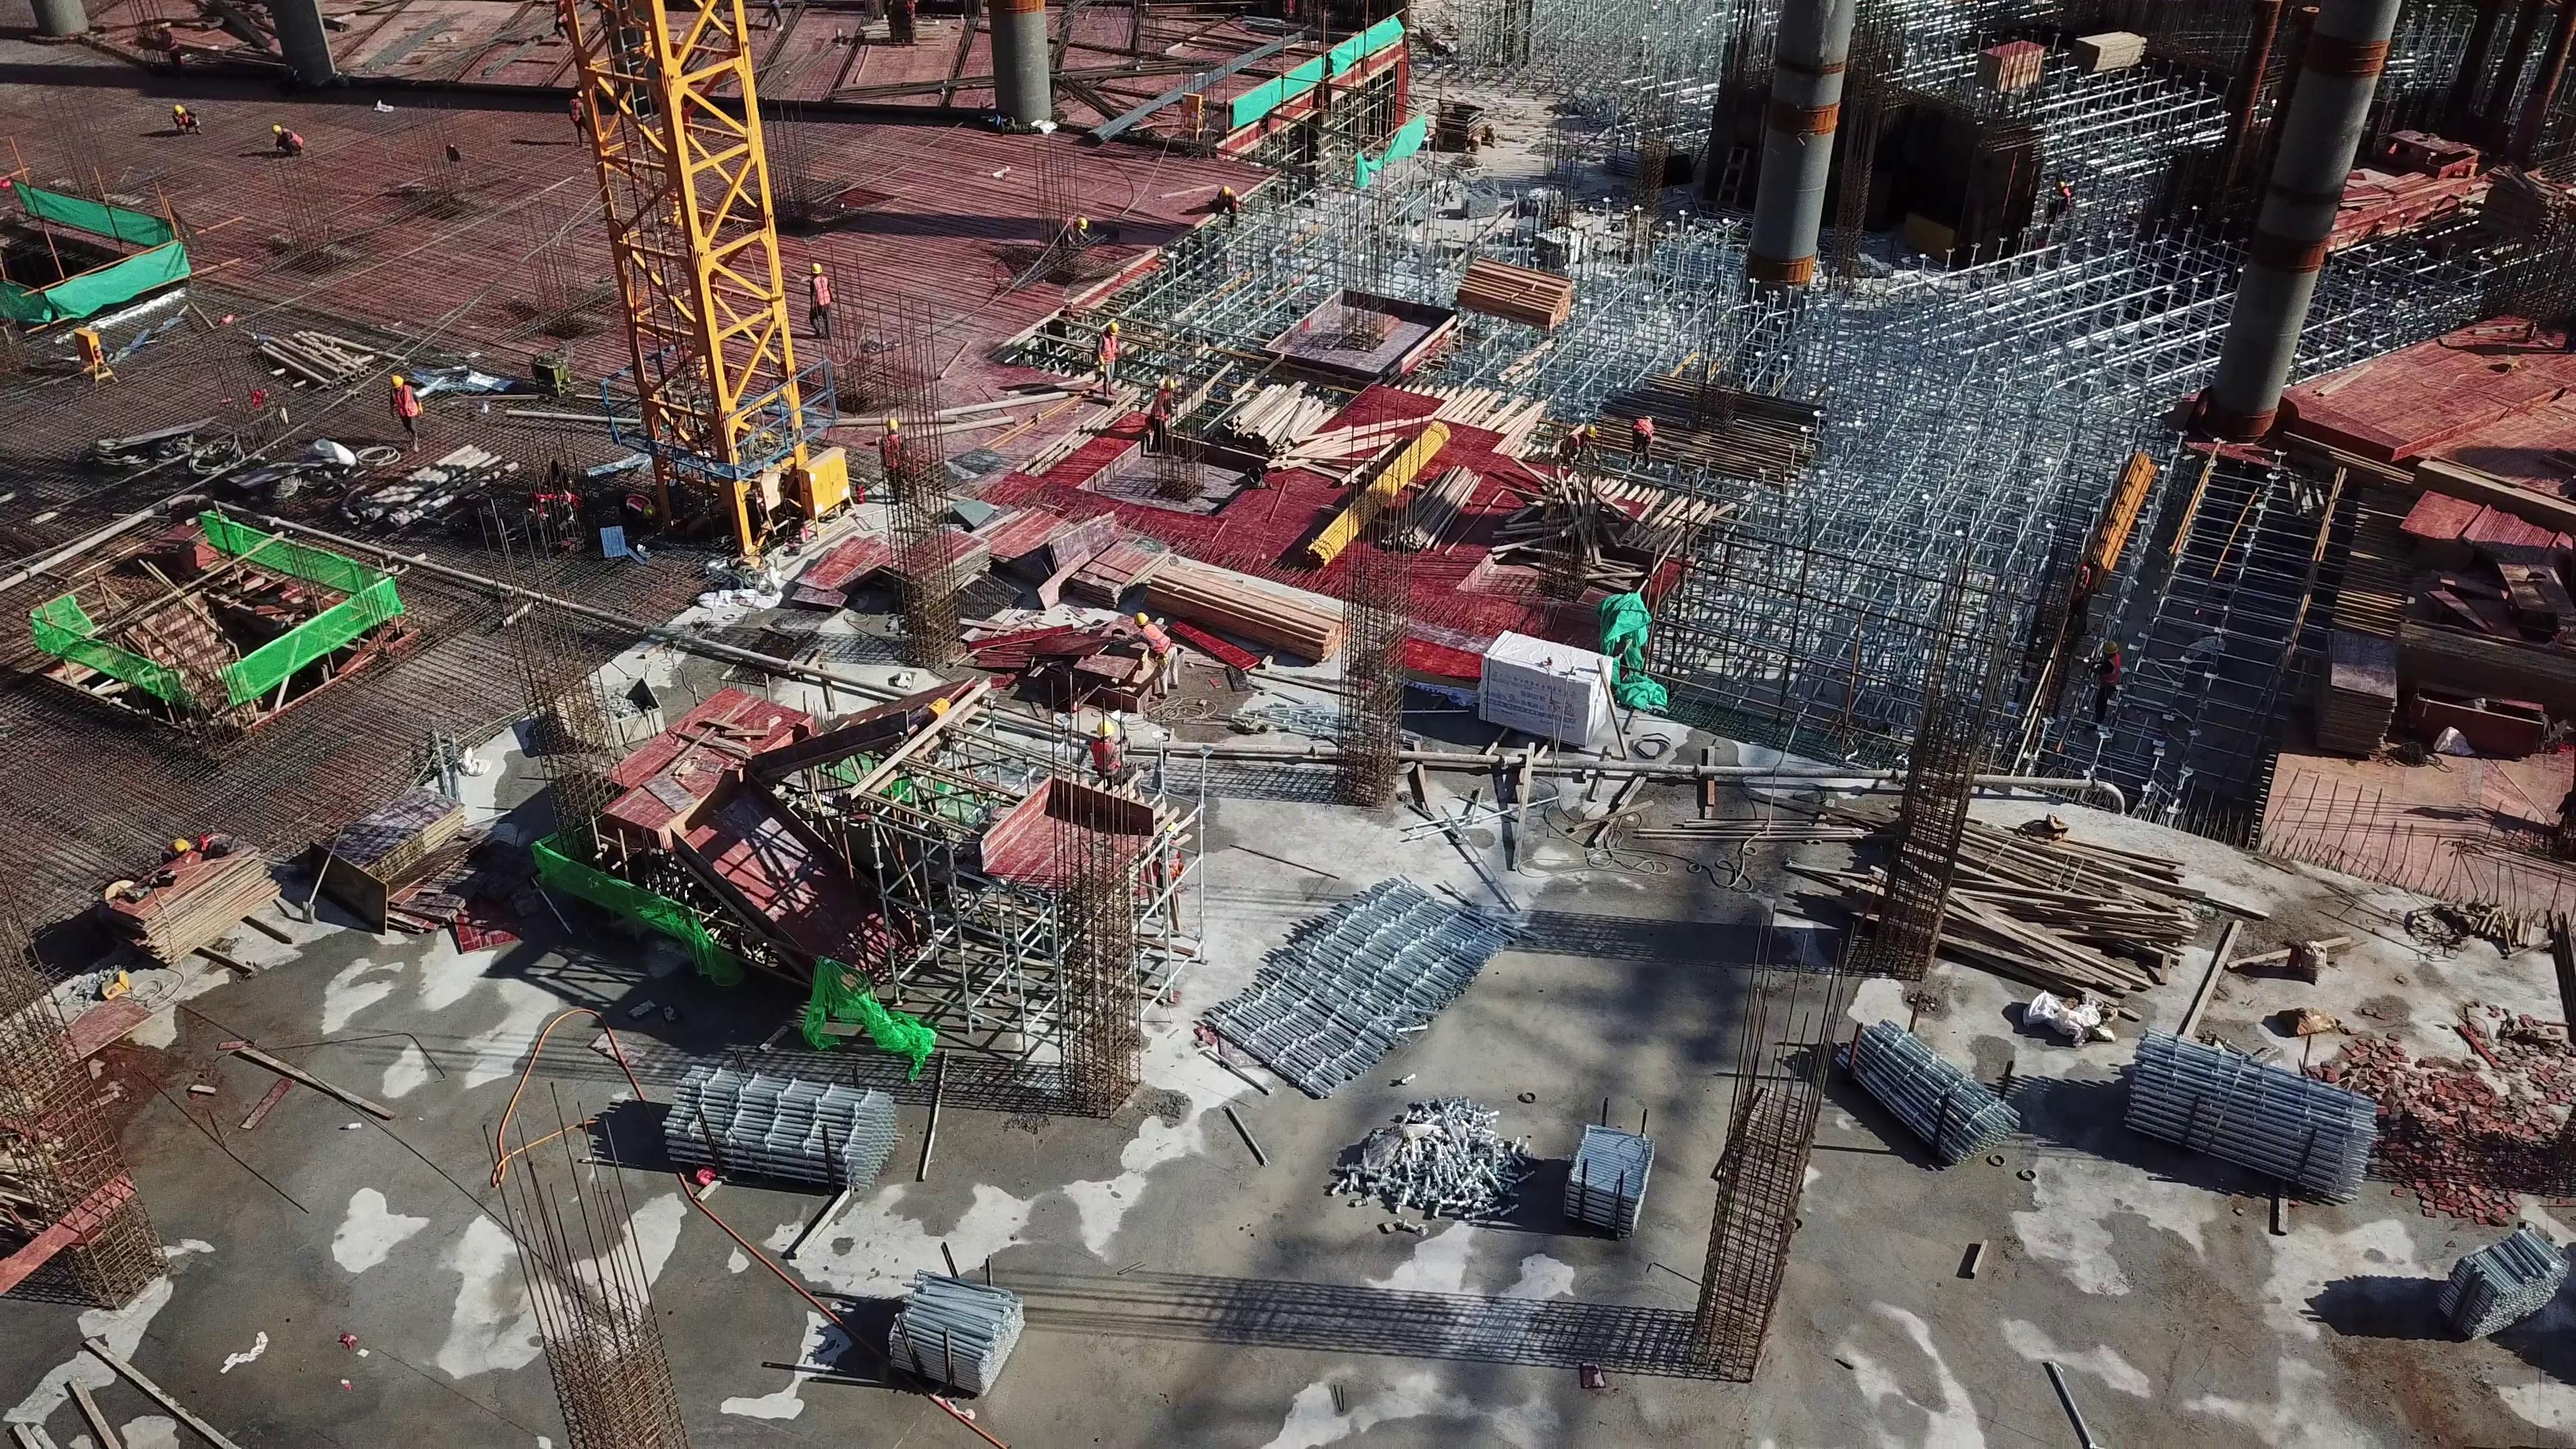board: (78, 823, 288, 981), (306, 786, 472, 934), (2310, 625, 2398, 751)
person: (1132, 610, 1190, 704), (379, 368, 431, 447), (1546, 421, 1595, 491), (1087, 316, 1128, 400), (877, 412, 913, 506), (805, 255, 837, 357), (1070, 730, 1132, 783), (1149, 383, 1187, 465), (1630, 398, 1660, 479)
scaffold: (1213, 879, 1487, 1112), (1338, 1110, 1645, 1249), (2112, 1042, 2371, 1188), (659, 1065, 898, 1188), (1829, 1028, 2012, 1179), (890, 1270, 1032, 1381)
wood: (1758, 800, 2210, 1010), (1134, 543, 1353, 680), (1187, 366, 1374, 488)
